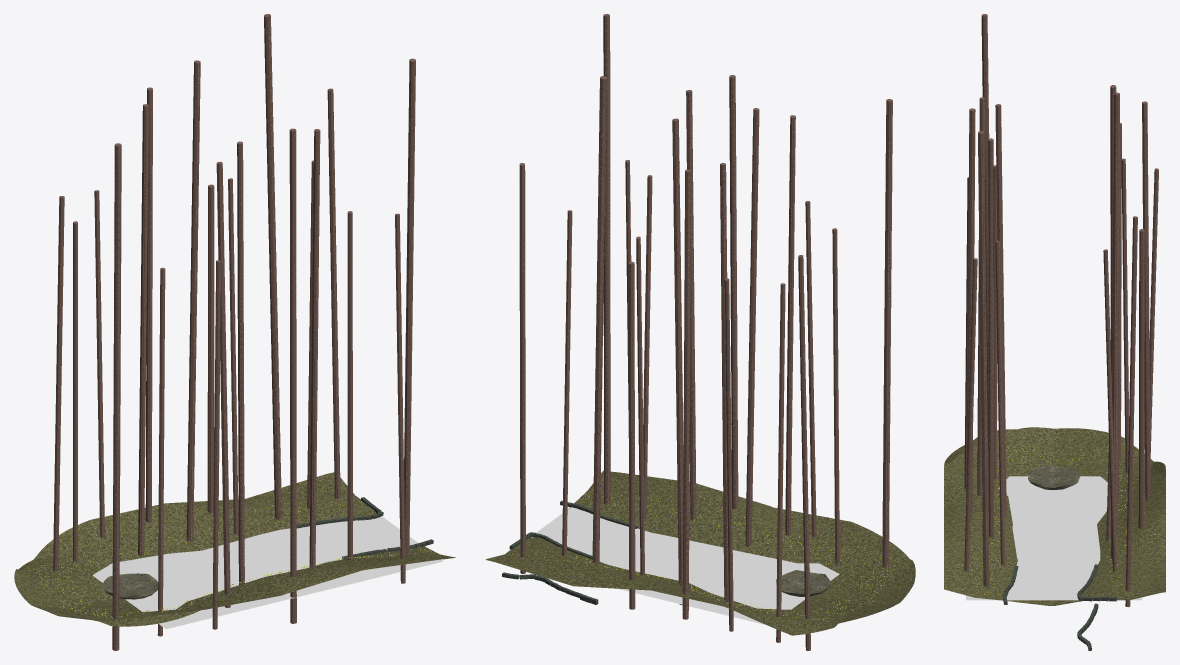
File: forest29.glb
3 views of the same model, side by side, from view 1: azimuth 30°, elevation 25°; view 2: azimuth 150°, elevation 25°; view 3: azimuth 270°, elevation 25° (orthographic). The views are drawn at different scales.
Visible parts, largest first — view 1: Trees, Landscape.1, Water, Base; view 2: Trees, Landscape.1, Water, Base; view 3: Trees, Landscape.1, Water, Base.
Boxes of the visible parts, x1,y1,x2,y2 form: Trees: (53,14,415,650); Landscape.1: (14,472,455,626); Water: (93,516,443,629); Base: (103,573,158,599); Trees: (519,14,892,650); Landscape.1: (485,470,915,635); Water: (531,507,839,625); Base: (776,570,830,596); Trees: (964,14,1158,607); Landscape.1: (944,427,1165,605); Water: (966,476,1141,600); Base: (1028,465,1079,489).
Size of the model in its own units: 242 by 329 by 131.
Materials: 8 (5 with a texture image).
